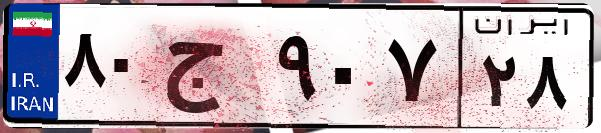0: (330, 28, 385, 110), (110, 28, 158, 98)
2: (475, 38, 525, 113)
7: (385, 28, 445, 110)
8: (57, 26, 110, 100), (525, 38, 570, 115)
9: (270, 28, 330, 110)
ج: (158, 20, 270, 120)
